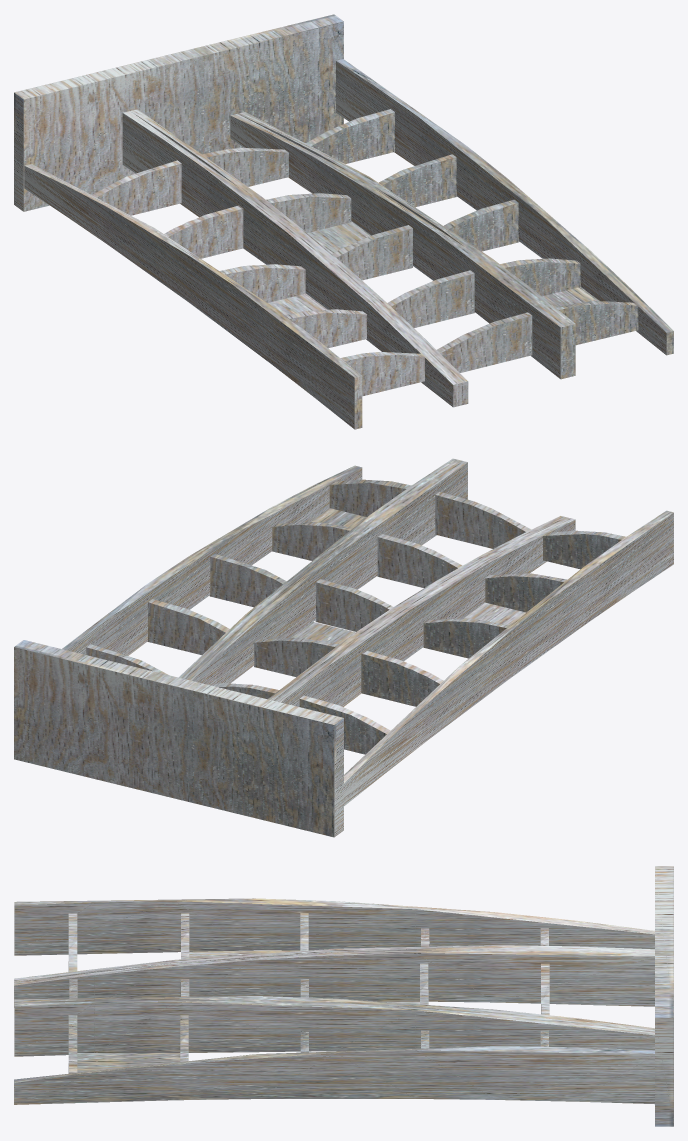
Rendered from bookshelf498_wtf.obj.
The picture shows the model from 3 angles, top to bottom: view 1: azimuth 30°, elevation 25°; view 2: azimuth 150°, elevation 25°; view 3: azimuth 270°, elevation 25°; orthographic projection. The views are drawn at different scales.
Visible parts, largest first — view 1: group2; view 2: group2; view 3: group2.
Boxes of the visible parts, left/top/right/bottom form: group2: left=14, top=14, right=673, bottom=429; group2: left=14, top=458, right=673, bottom=837; group2: left=14, top=866, right=673, bottom=1126.
Bounding box in the file's own units: 359 × 120 × 660.
